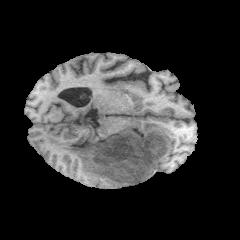glioma: (49, 126, 174, 186)
